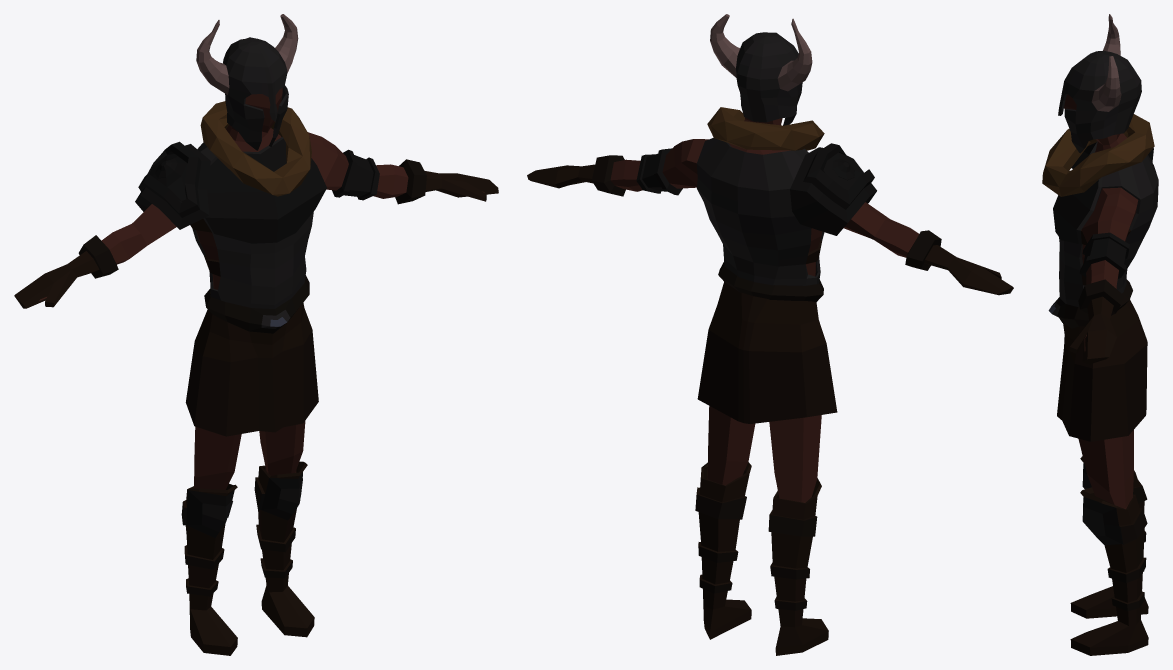
The model's file is warrior.obj.
The picture shows the model from 3 angles, left to right: view 1: azimuth 30°, elevation 25°; view 2: azimuth 150°, elevation 25°; view 3: azimuth 270°, elevation 25°; orthographic projection. The views are drawn at different scales.
Visible parts, largest first — view 1: Shirt_Cylinder.005, Skirt_Cylinder.011, Boots_Cylinder.004, Body_Cylinder, Helmet_Cylinder.002, Gloves_Cylinder.008, NurbsCurve, Shoulder_Cylinder.003, Belt_Cylinder.001, Armband_Cylinder.010; view 2: Skirt_Cylinder.011, Shirt_Cylinder.005, Boots_Cylinder.004, Body_Cylinder, Helmet_Cylinder.002, Shoulder_Cylinder.003, Gloves_Cylinder.008, NurbsCurve, Belt_Cylinder.001, Armband_Cylinder.010; view 3: Skirt_Cylinder.011, Boots_Cylinder.004, Body_Cylinder, Helmet_Cylinder.002, Shirt_Cylinder.005, NurbsCurve, Gloves_Cylinder.008, Armband_Cylinder.010, Belt_Cylinder.001, Shoulder_Cylinder.003.
Boxes of the visible parts, <box> form: Shirt_Cylinder.005: <box>190,136,326,308</box>; Skirt_Cylinder.011: <box>185,302,318,436</box>; Boots_Cylinder.004: <box>181,461,314,655</box>; Body_Cylinder: <box>39,88,484,489</box>; Helmet_Cylinder.002: <box>196,14,298,150</box>; Gloves_Cylinder.008: <box>14,159,498,308</box>; NurbsCurve: <box>200,101,311,196</box>; Shoulder_Cylinder.003: <box>135,141,210,229</box>; Belt_Cylinder.001: <box>204,275,309,333</box>; Armband_Cylinder.010: <box>332,149,379,200</box>; Skirt_Cylinder.011: <box>697,282,837,423</box>; Shirt_Cylinder.005: <box>696,138,824,285</box>; Boots_Cylinder.004: <box>695,462,828,655</box>; Body_Cylinder: <box>610,117,918,502</box>; Helmet_Cylinder.002: <box>710,14,812,125</box>; Shoulder_Cylinder.003: <box>790,143,876,235</box>; Gloves_Cylinder.008: <box>527,155,1013,295</box>; NurbsCurve: <box>707,107,824,150</box>; Belt_Cylinder.001: <box>718,262,823,301</box>; Armband_Cylinder.010: <box>636,148,682,195</box>; Skirt_Cylinder.011: <box>1057,299,1147,441</box>; Boots_Cylinder.004: <box>1070,456,1148,655</box>; Body_Cylinder: <box>1064,94,1138,509</box>; Helmet_Cylinder.002: <box>1058,14,1141,153</box>; Shirt_Cylinder.005: <box>1053,141,1158,307</box>; NurbsCurve: <box>1042,114,1154,196</box>; Gloves_Cylinder.008: <box>1069,279,1124,364</box>; Armband_Cylinder.010: <box>1079,232,1129,278</box>; Belt_Cylinder.001: <box>1048,279,1132,328</box>; Shoulder_Cylinder.003: <box>1071,142,1153,168</box>.
Size of the model in its own units: 2.79 by 3.48 by 0.6098.
